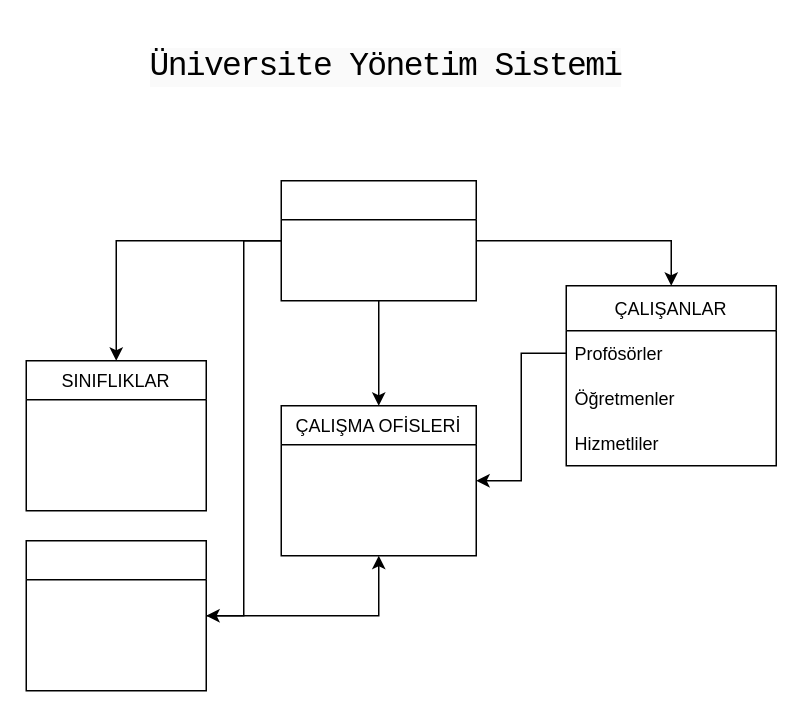
Some shapes in this 803 by 717 pixel diagram are drawn without their labels. Each missing label, with the box of its shape:
DEPARTMANLAR: (25, 539, 206, 691)
ÜNİVERSİTE: (280, 179, 476, 301)
